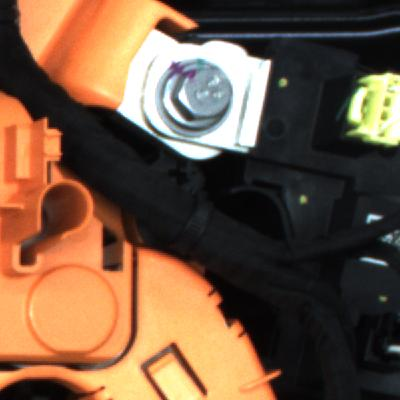nut_b: (151, 57, 253, 141)
